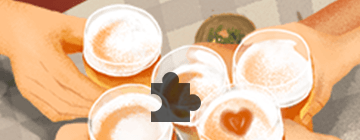target: (151, 72, 201, 122)
